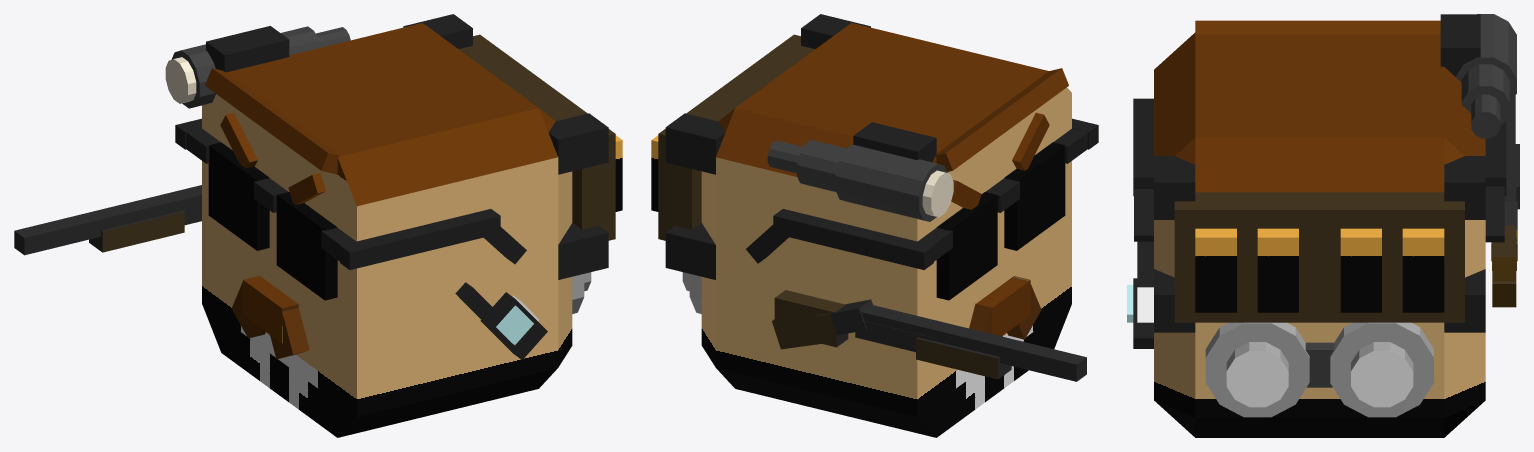
Rendered from playerHoldingshotgun.gltf.
3 views of the same model, side by side, from view 1: azimuth 30°, elevation 25°; view 2: azimuth 150°, elevation 25°; view 3: azimuth 270°, elevation 25° (orthographic). The views are drawn at different scales.
Visible parts, largest first — view 1: beveled_cuboid, cube (×2); view 2: beveled_cuboid, cube; view 3: beveled_cuboid, cube (×2).
Part boxes in pixels (x1,y1,x2,y2): beveled_cuboid: [165, 14, 622, 437]; cube (×2): [14, 185, 547, 360]; beveled_cuboid: [651, 14, 1098, 437]; cube: [772, 290, 1086, 381]; beveled_cuboid: [1127, 14, 1516, 437]; cube (×2): [1133, 96, 1519, 348].
Size of the model in its own units: 1.71 by 1.06 by 1.18.
5 materials, 5 textured.
